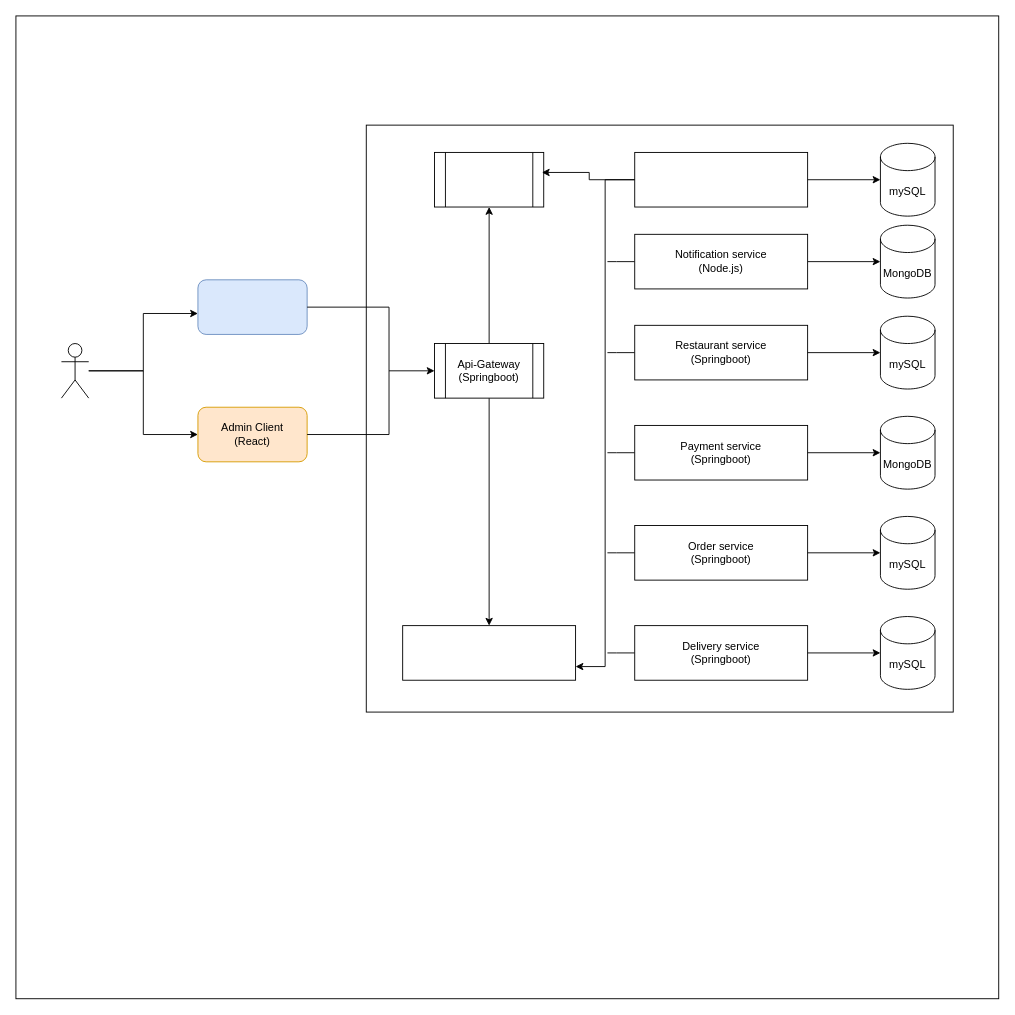
The diagram is 1015 pixels wide and 1015 high, and some of its shapes have lost their labels. The shapes that lost their labels are listed below. From the top down, each one's centre as x and y in pixels, then its label:
point (489, 179): Keycloak
point (721, 179): Auth service (Springboot)
point (252, 306): User Client (React)
point (75, 370): Actor
point (489, 652): Eureka server (Springboot)
